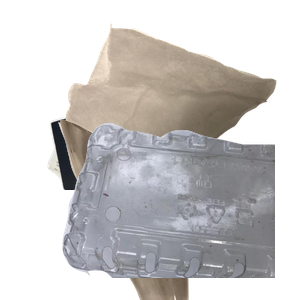glass: (56, 120, 241, 300)
paper: (45, 34, 230, 214)
plastic: (60, 120, 300, 300)
trash: (63, 21, 300, 172)
